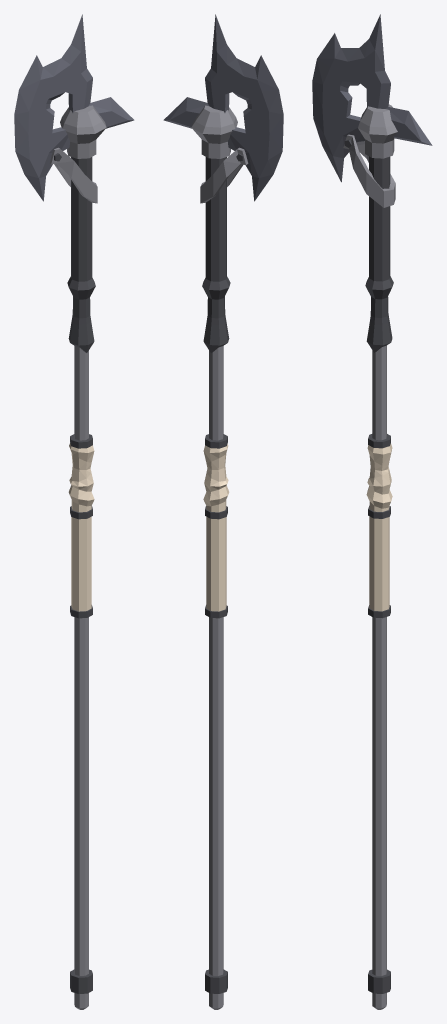
Rendered from Lanca_B07.fbx.
The picture shows the model from 3 angles, left to right: view 1: azimuth 30°, elevation 25°; view 2: azimuth 150°, elevation 25°; view 3: azimuth 330°, elevation 25°; orthographic projection.
Visible parts, largest first — view 1: polearm_7; view 2: polearm_7; view 3: polearm_7.
Part boxes in pixels (x1=…): polearm_7: x1=14, y1=14, x2=134, y2=1009; polearm_7: x1=163, y1=14, x2=283, y2=1009; polearm_7: x1=312, y1=14, x2=432, y2=1009.
Size of the model in its own units: 26.02 by 205 by 9.06.
